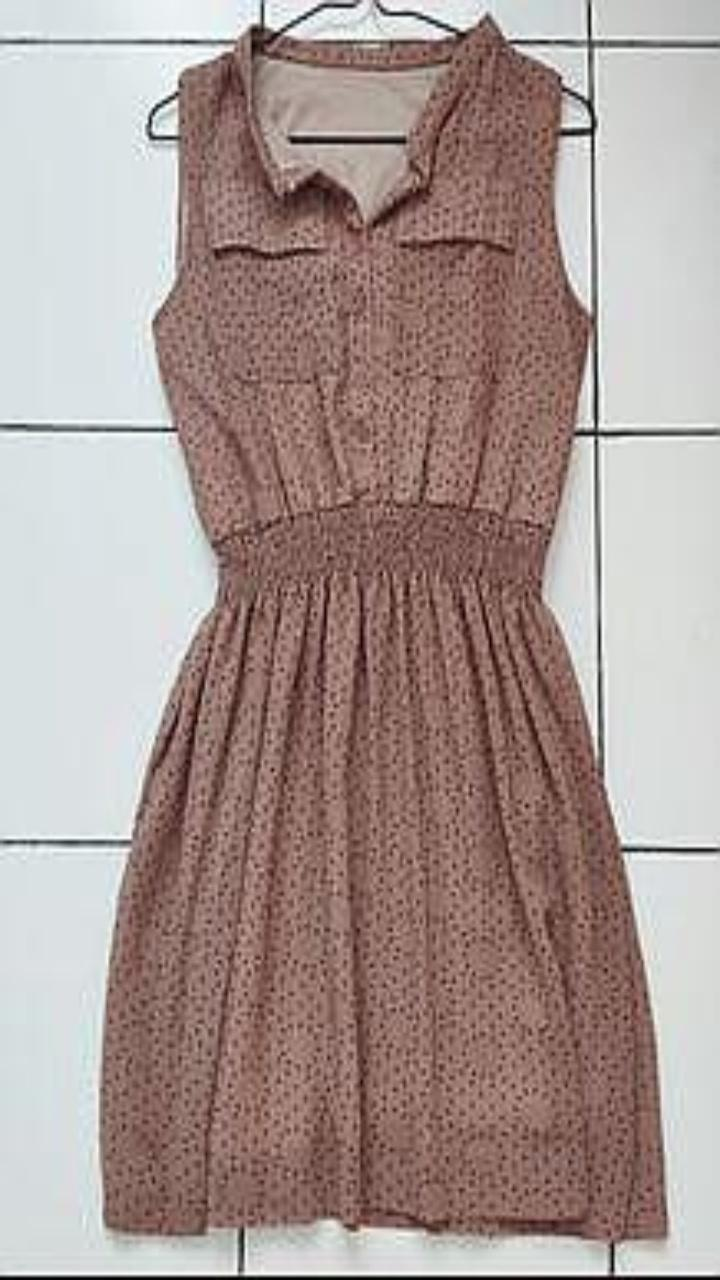Dresses: (100, 13, 666, 1239)
